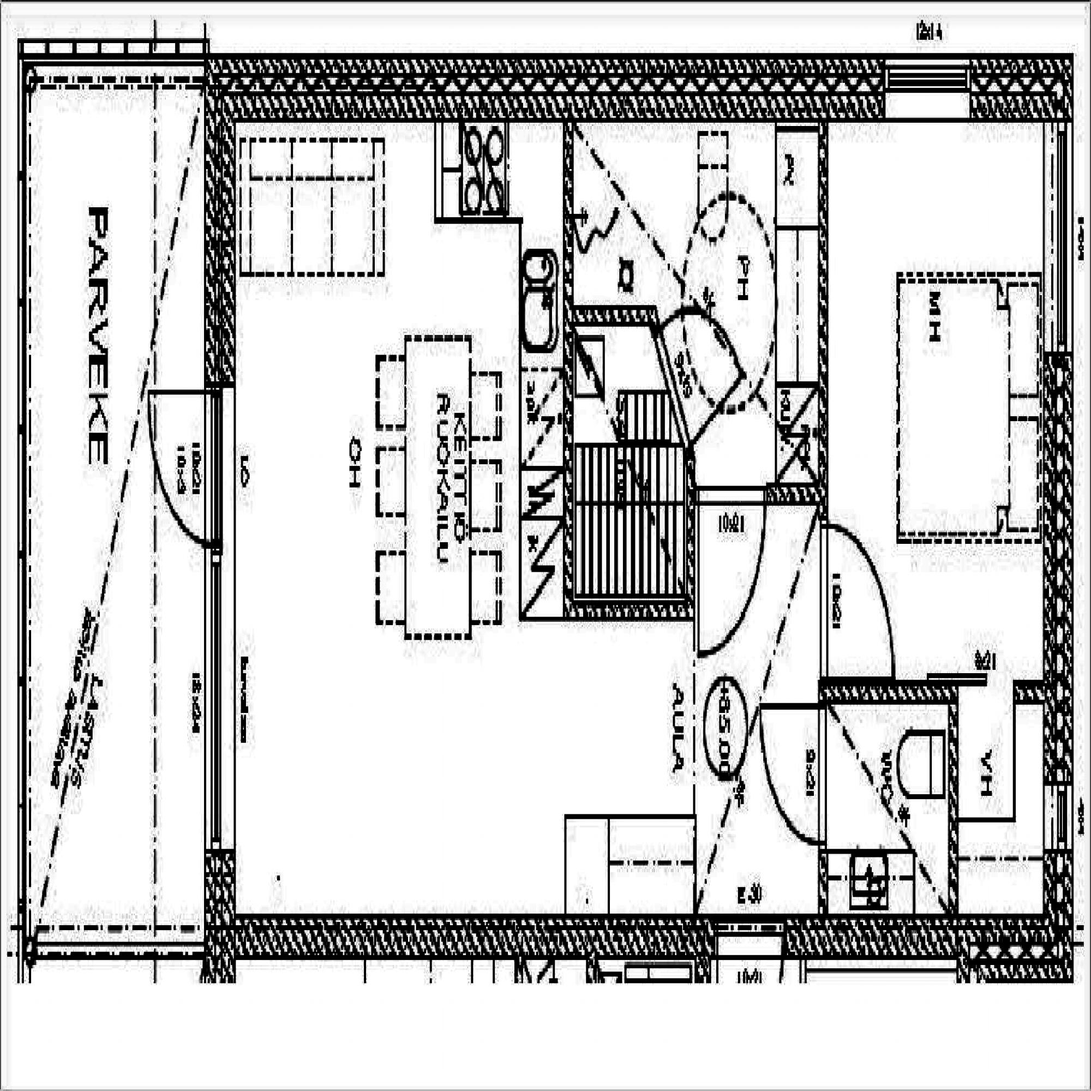wall: (206, 56, 1073, 122), (206, 916, 1073, 961), (1044, 56, 1073, 961), (206, 56, 235, 961), (818, 56, 828, 961), (649, 307, 695, 449), (818, 681, 1073, 705), (563, 56, 573, 621), (687, 483, 828, 506), (563, 598, 695, 621), (948, 681, 958, 960), (563, 307, 654, 327), (687, 483, 695, 621), (687, 441, 695, 482)
